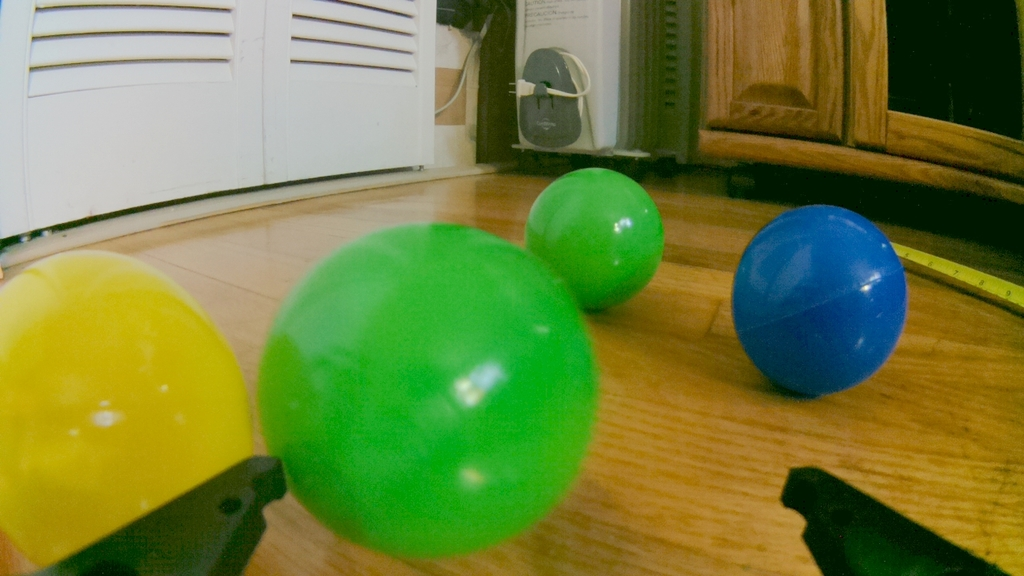ball: (526, 163, 668, 314)
